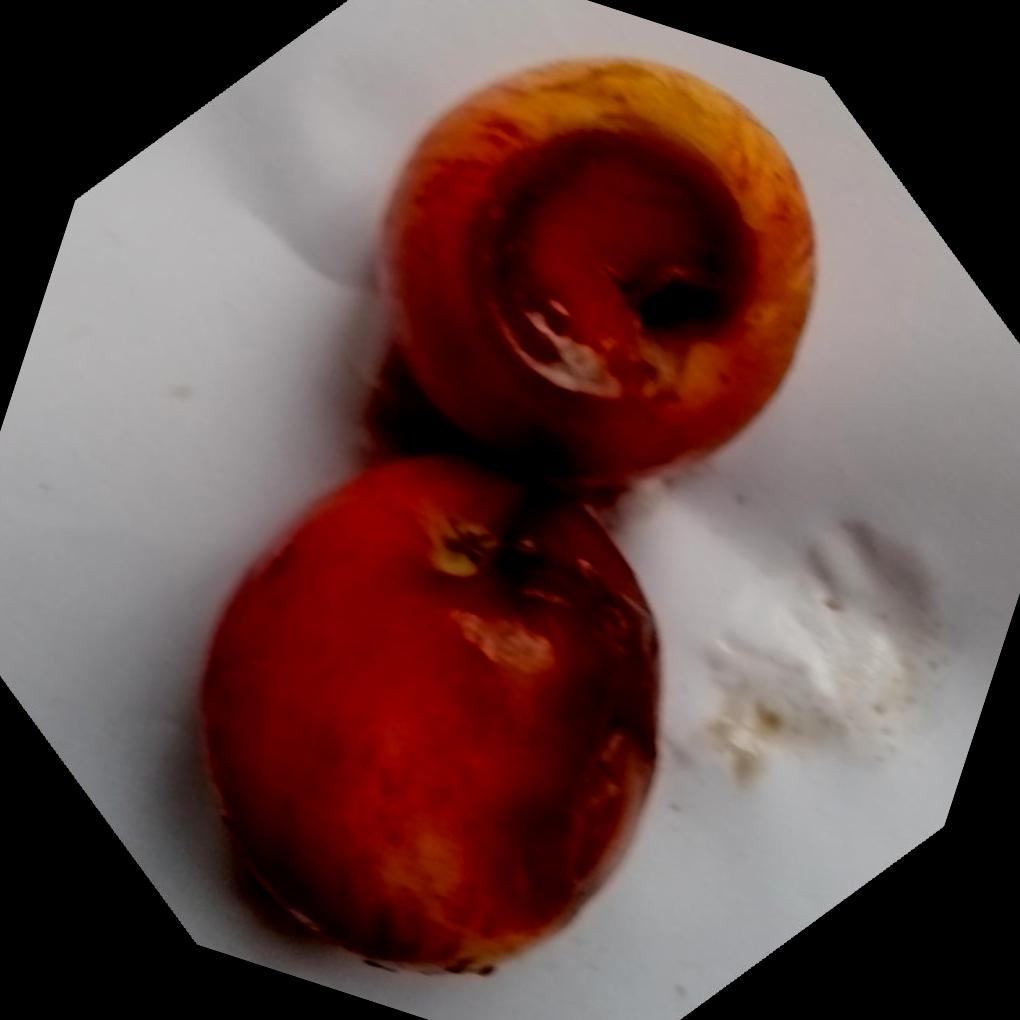FreshOrange: (197, 55, 820, 977)
